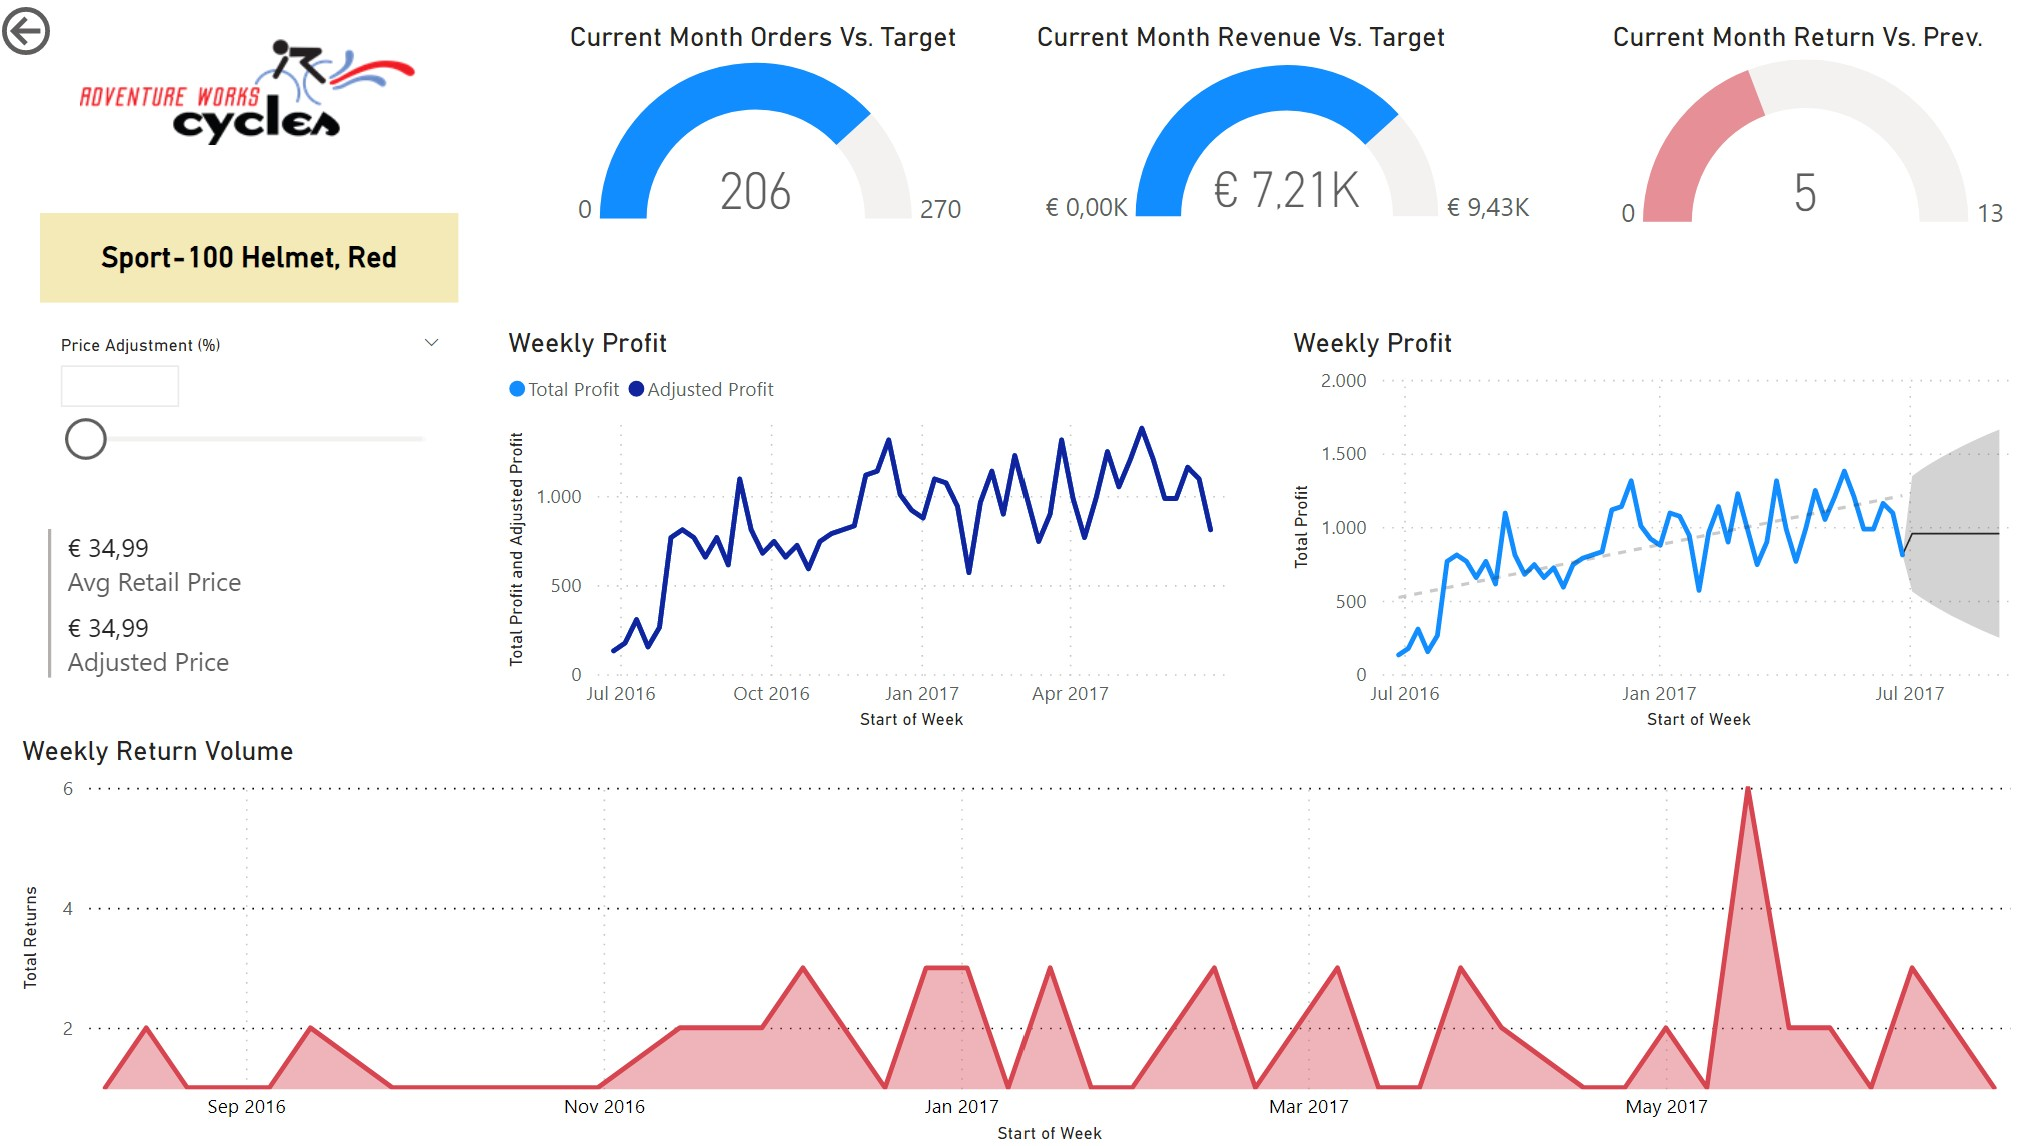

What the dashboard file says about the page in this screenshot:
{"tool":"powerbi","page":{"name":"Product Detail","canvas":[1280,720],"ordinal":1},"visuals":[{"type":"image","box":[48.8,14.3,221.3,89.2],"z":0},{"type":"lineChart","title":"Weekly Profit","fields":{"Y":["AW_Sales.Total Profit"],"Category":["AW_Calendar_Lookup.Start of Week"]},"box":[806.7,204.8,473.3,256.2],"z":1000},{"type":"areaChart","title":"Weekly Return Volume","fields":{"Category":["AW_Calendar_Lookup.Start of Week"],"Y":["AW_Returns.Total Returns"]},"box":[11.9,460.4,1268.1,259.3],"z":2000},{"type":"gauge","title":"Current Month Orders Vs. Target","fields":{"Y":["AW_Sales.Total Orders"],"MaxValue":["AW_Sales.Order Target"]},"box":[354.5,14.3,259.3,135.6],"z":3000},{"type":"gauge","title":"Current Month Revenue Vs. Target","fields":{"Y":["AW_Sales.Total Revenue"],"MaxValue":["AW_Sales.Revenue Target"]},"box":[645.9,14.3,322.4,135.6],"z":4000},{"type":"gauge","title":"Current Month Return Vs. Prev. ","fields":{"Y":["AW_Returns.Total Returns"],"MaxValue":["AW_Returns.Prev Month Returns"]},"box":[1006.4,14.3,259.3,135.6],"z":5000},{"type":"card","fields":{"Values":["Min(AW_Product_Lookup.ProductName)"]},"box":[28.6,133.2,261.7,55.9],"z":6000},{"type":"actionButton","box":[0,0,100,40],"z":7000},{"type":"slicer","fields":{"Values":["Price Adjustment (%).Price Adjustment (%)"]},"box":[28.8,204.8,262.4,121.4],"z":8000},{"type":"multiRowCard","fields":{"Values":["AW_Product_Lookup.Avg Retail Price","AW_Product_Lookup.Adjusted Price"]},"box":[28.8,326.2,228.4,109.1],"z":9000},{"type":"lineChart","title":"Weekly Profit","fields":{"Y":["AW_Sales.Total Profit","AW_Sales.Adjusted Profit"],"Category":["AW_Calendar_Lookup.Start of Week"]},"box":[315.9,204.8,473.3,256.2],"z":10000}]}

Visuals, with their boxes in screenshot pixels (x1, y1, x2, y2), scaled from the page's 1280x720 canvas onto the 2030x1146 screenshot:
image: <bbox>77, 23, 428, 165</bbox>
"Weekly Profit" lineChart: <bbox>1279, 326, 2029, 734</bbox>
"Weekly Return Volume" areaChart: <bbox>19, 733, 2029, 1145</bbox>
"Current Month Orders Vs. Target" gauge: <bbox>562, 23, 973, 239</bbox>
"Current Month Revenue Vs. Target" gauge: <bbox>1024, 23, 1536, 239</bbox>
"Current Month Return Vs. Prev. " gauge: <bbox>1596, 23, 2007, 239</bbox>
card - Min(AW_Product_Lookup.ProductName): <bbox>45, 212, 460, 301</bbox>
actionButton: <bbox>0, 0, 159, 64</bbox>
slicer - Price Adjustment (%).Price Adjustment (%): <bbox>46, 326, 462, 519</bbox>
multiRowCard - AW_Product_Lookup.Avg Retail Price x AW_Product_Lookup.Adjusted Price: <bbox>46, 519, 408, 693</bbox>
"Weekly Profit" lineChart: <bbox>501, 326, 1252, 734</bbox>
